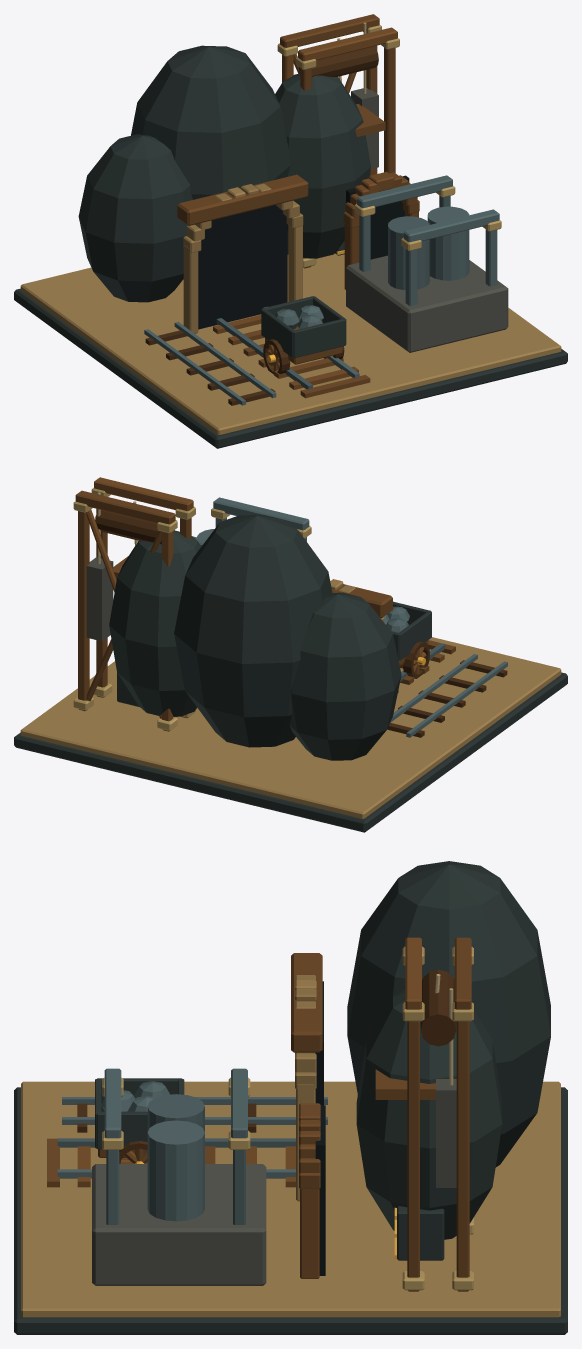
3 renders of one model, top to bottom at view 1: azimuth 30°, elevation 25°; view 2: azimuth 150°, elevation 25°; view 3: azimuth 270°, elevation 25°, orthographic. The views are drawn at different scales.
Visible parts, largest first — view 1: mine_7_structure; view 2: mine_7_structure; view 3: mine_7_structure.
Boxes of the visible parts, x1=… form: mine_7_structure: x1=14, y1=14, x2=567, y2=448; mine_7_structure: x1=14, y1=477, x2=567, y2=832; mine_7_structure: x1=14, y1=861, x2=567, y2=1334.
Bounding box in the file's own units: 5.6 × 3.78 × 5.6.
